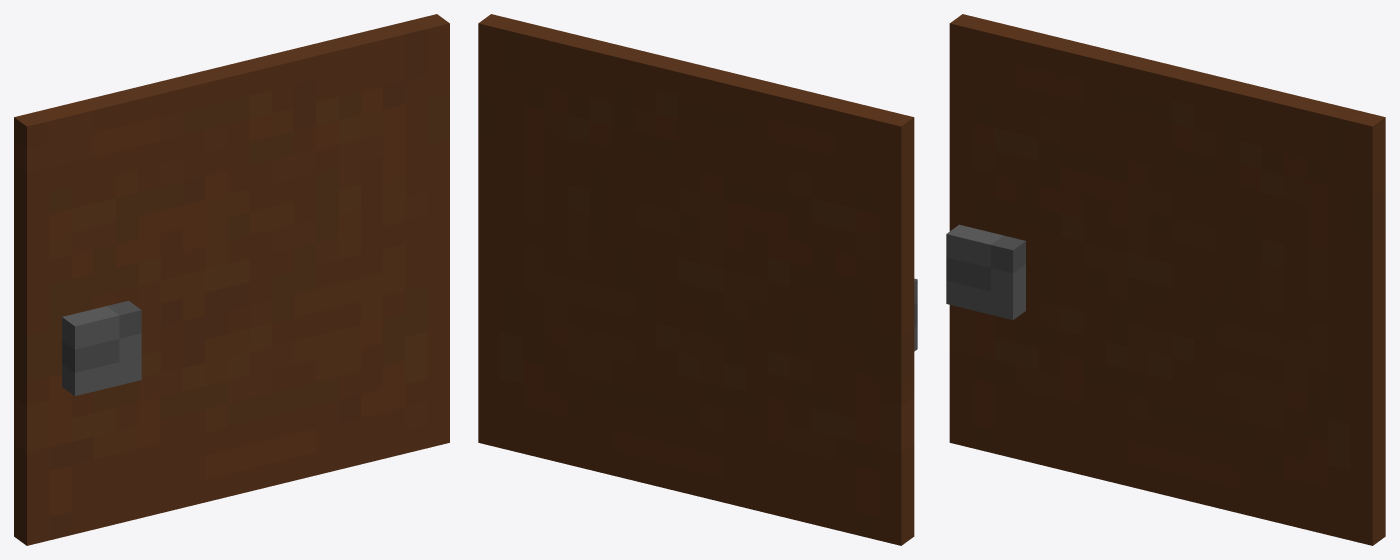
Rendered from storage1-0.obj.
The picture shows the model from 3 angles, left to right: view 1: azimuth 30°, elevation 25°; view 2: azimuth 150°, elevation 25°; view 3: azimuth 330°, elevation 25°; orthographic projection.
Bounding box in the file's own units: 1.9 × 1.8 × 0.3.
1 material, 1 textured.
